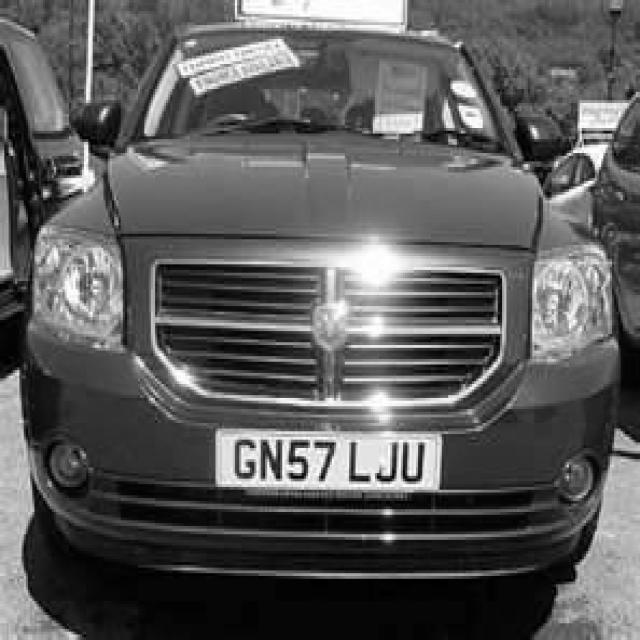car: (15, 14, 623, 598)
plat_license: (213, 426, 442, 492)
